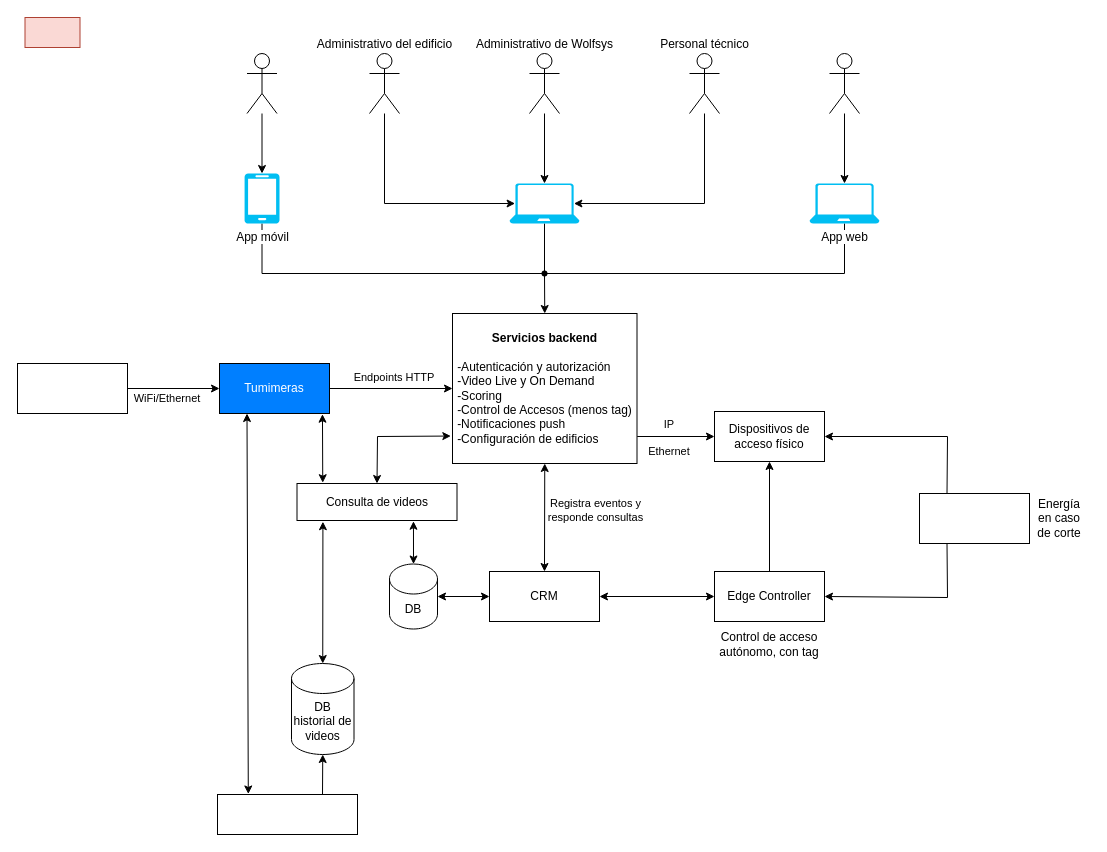
Some shapes in this 1107 by 852 pixel diagram are drawn without their labels. The shapes that lost their labels are listed below. From the top down, each one's box as (x1, y1, x2, y2) in pixels, then its label:
(24, 16, 80, 48): AOD
(246, 52, 277, 114): Usuario
(828, 52, 860, 114): Agente de vigilancia
(509, 183, 579, 223): Interfaz administrativa
(16, 362, 128, 414): Cámaras
(918, 492, 1030, 544): UPS
(216, 794, 358, 834): La Heladera
